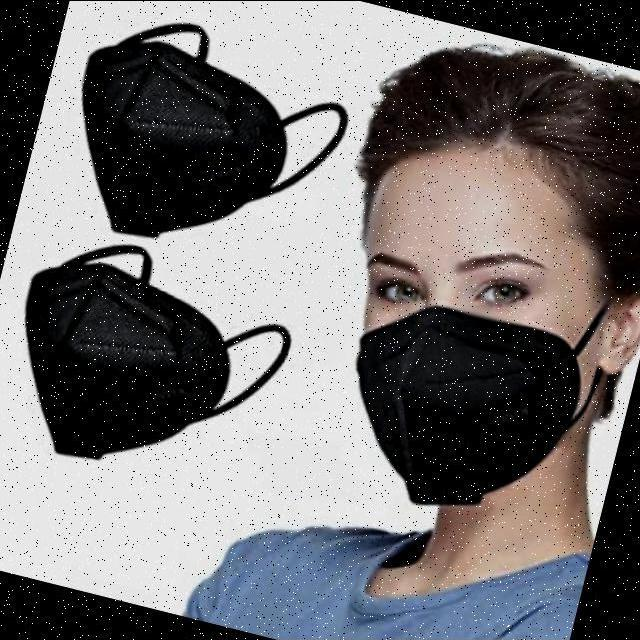mask: (390, 336, 546, 490)
no_gloves: (392, 64, 640, 248)
